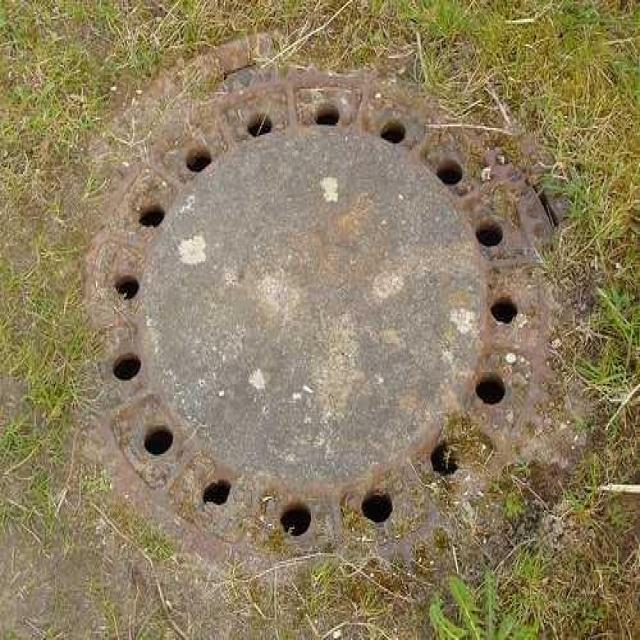manhole: (82, 75, 552, 538)
